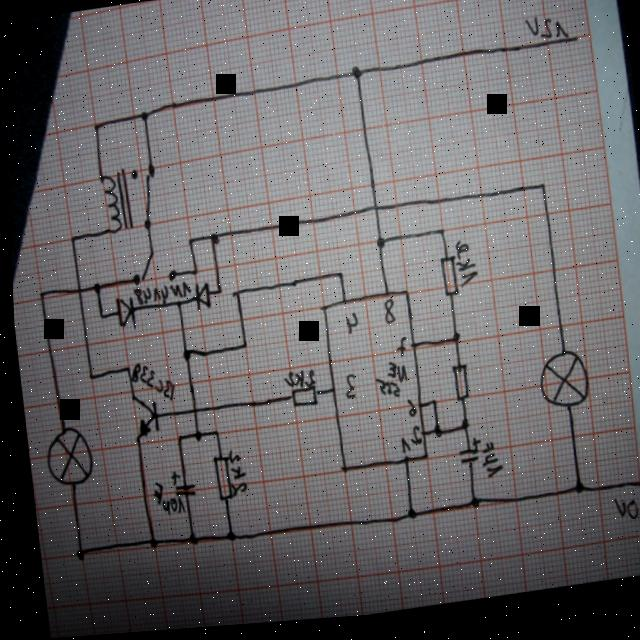capacitor: (165, 469, 192, 500), (452, 442, 479, 472)
crossover: (368, 205, 379, 220), (72, 285, 81, 297), (188, 409, 195, 417)
diode: (111, 295, 134, 333), (190, 281, 209, 314)
junction: (447, 336, 459, 351), (569, 488, 581, 503), (434, 229, 446, 244), (207, 233, 218, 249), (178, 349, 189, 365), (373, 239, 384, 255), (402, 512, 413, 527), (350, 69, 361, 84), (465, 500, 475, 516), (184, 533, 194, 549), (455, 423, 466, 437), (228, 290, 239, 303), (83, 370, 93, 384), (429, 429, 438, 444), (71, 547, 80, 562), (89, 282, 99, 295), (333, 274, 343, 287), (221, 532, 231, 545), (139, 110, 148, 124), (144, 537, 153, 551), (34, 288, 44, 300), (95, 310, 104, 323), (91, 122, 100, 134), (183, 237, 192, 248), (190, 432, 197, 444), (173, 300, 181, 310), (212, 289, 220, 299), (238, 343, 245, 354), (189, 269, 196, 280), (209, 431, 217, 440), (121, 365, 129, 374), (67, 234, 74, 244), (172, 435, 179, 444), (537, 189, 544, 198), (426, 404, 433, 412)
resistor: (208, 456, 229, 505), (436, 260, 457, 305), (447, 367, 468, 409), (285, 388, 317, 412)
switch: (128, 249, 175, 289)
terminal: (571, 39, 580, 53), (631, 487, 640, 499)
text: (126, 359, 173, 406), (130, 282, 190, 309), (369, 364, 406, 404), (524, 20, 569, 52), (450, 243, 476, 294), (147, 480, 180, 519), (223, 450, 243, 501), (475, 446, 500, 485), (279, 371, 313, 394), (607, 504, 634, 531), (379, 302, 394, 331), (339, 377, 354, 405), (341, 315, 357, 339), (391, 340, 406, 363), (405, 430, 418, 450), (402, 402, 413, 423), (396, 441, 407, 460)
transistor: (125, 393, 158, 442)
